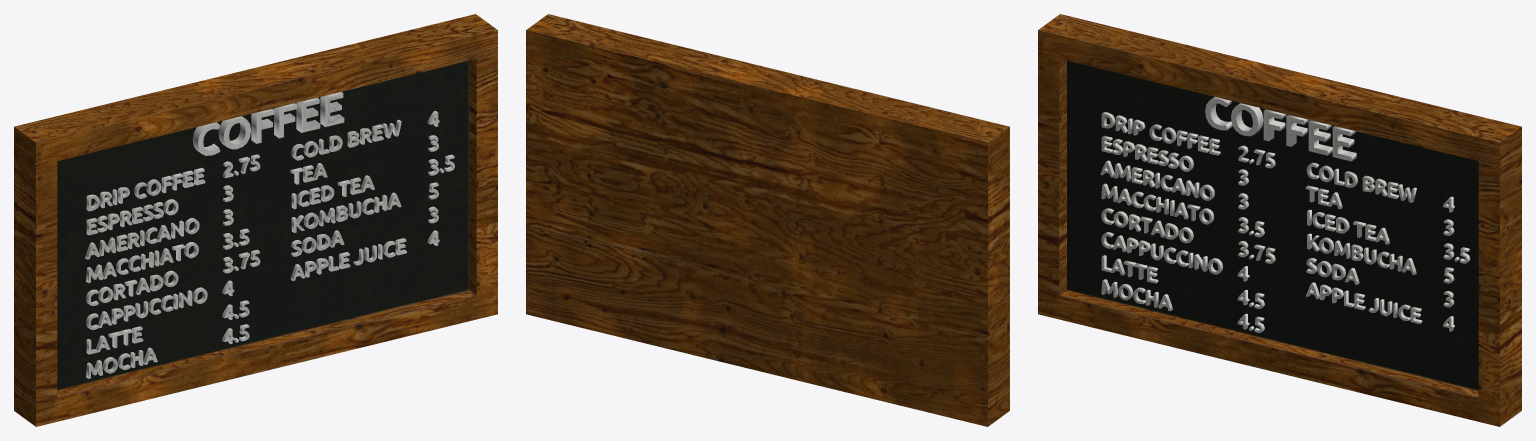
The model's file is coffee_menu.glb.
3 views of the same model, side by side, from view 1: azimuth 30°, elevation 25°; view 2: azimuth 150°, elevation 25°; view 3: azimuth 330°, elevation 25° (orthographic).
Visible parts, largest first — view 1: Menu_Menu_0; view 2: Menu_Menu_0; view 3: Menu_Menu_0.
Part boxes in pixels (bbox=[...]): Menu_Menu_0: bbox=[14, 14, 497, 426]; Menu_Menu_0: bbox=[526, 14, 1009, 426]; Menu_Menu_0: bbox=[1038, 14, 1521, 426].
Size of the model in its own units: 1.7 by 0.9999 by 0.1404.
1 material, 1 textured.
